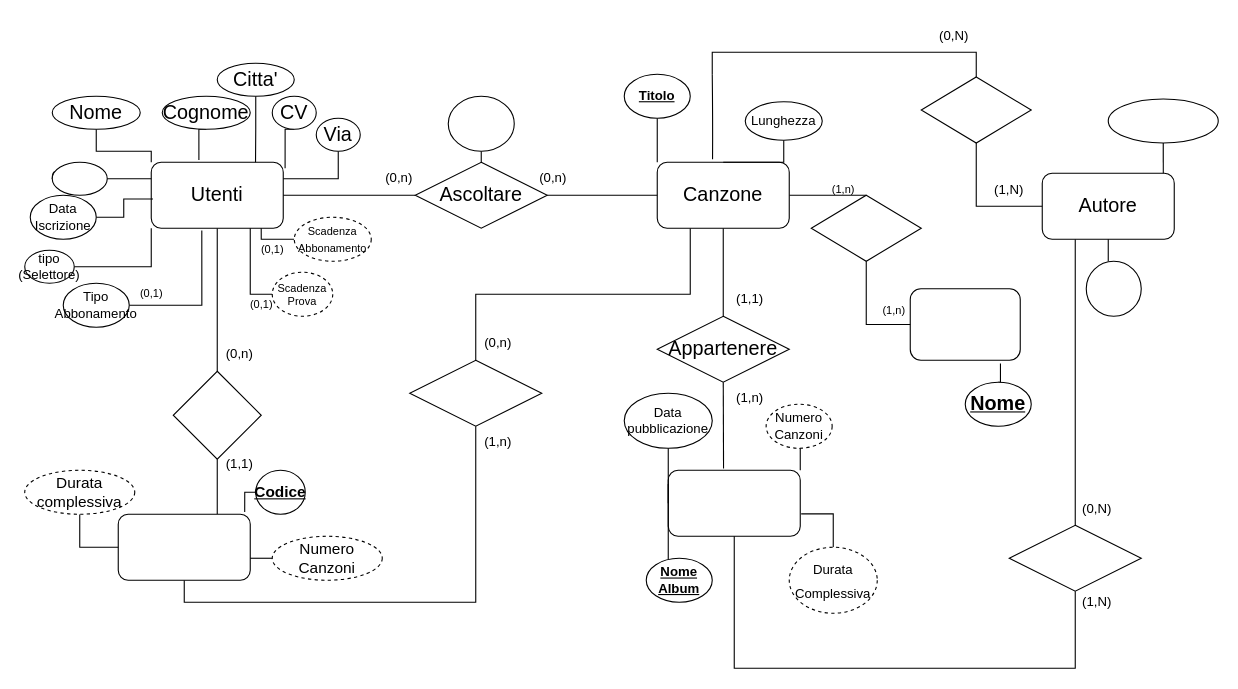
Image size: 1238x689. Some labels were removed from this diagram. Each missing label, with the box of its shape:
Afferire: (810, 194, 921, 261)
Album: (667, 469, 800, 536)
Anni Esperienza: (1107, 98, 1218, 143)
CF: (51, 161, 107, 195)
Comporre: (920, 76, 1031, 143)
Creare: (172, 370, 261, 459)
Genere: (909, 288, 1020, 360)
Incidere: (1008, 524, 1141, 591)
Nome d'arte: (1085, 260, 1141, 316)
Ora ultimo ascolto: (447, 95, 514, 151)
Playlist: (117, 513, 250, 580)
Raccogliere: (409, 359, 542, 426)
